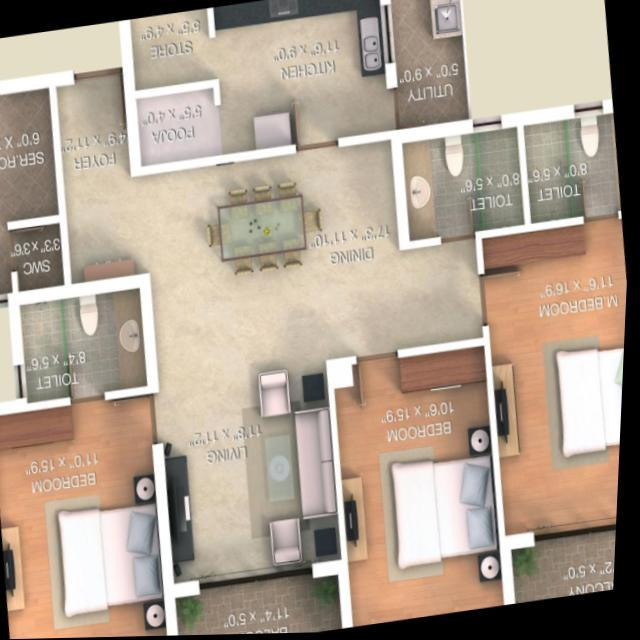Balcony-Sitout: (166, 560, 349, 637), (504, 524, 621, 607)
Bedroom: (326, 339, 517, 630), (0, 384, 176, 639)
Bedroom with Toilet: (478, 105, 630, 546)
Dining: (193, 170, 330, 287)
Kitchen: (114, 0, 400, 177)
Living: (151, 364, 353, 602)
Toilet: (11, 274, 163, 413), (390, 116, 531, 251), (515, 100, 623, 230)
Utility: (377, 0, 470, 144)
